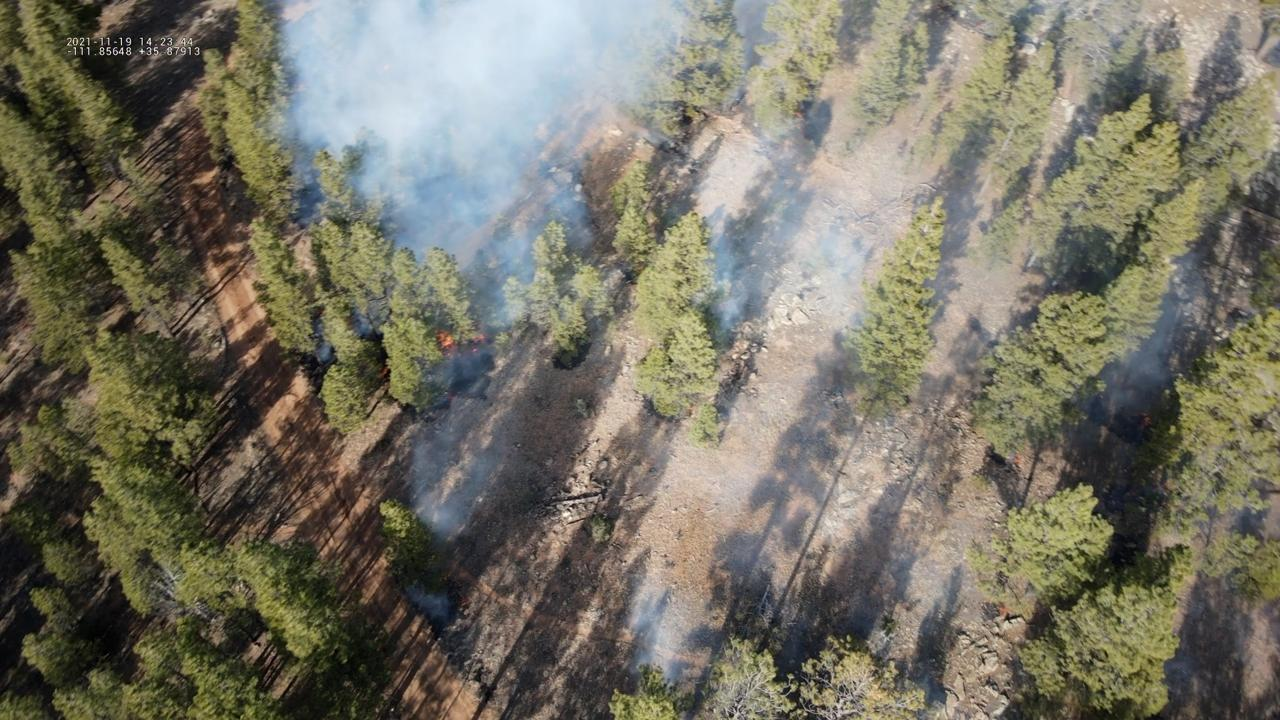fire: (435, 329, 459, 361), (468, 334, 486, 353), (1140, 412, 1152, 426), (376, 365, 388, 378)
smoke: (273, 0, 915, 547), (1094, 298, 1184, 420), (625, 579, 678, 693), (404, 579, 453, 624)
